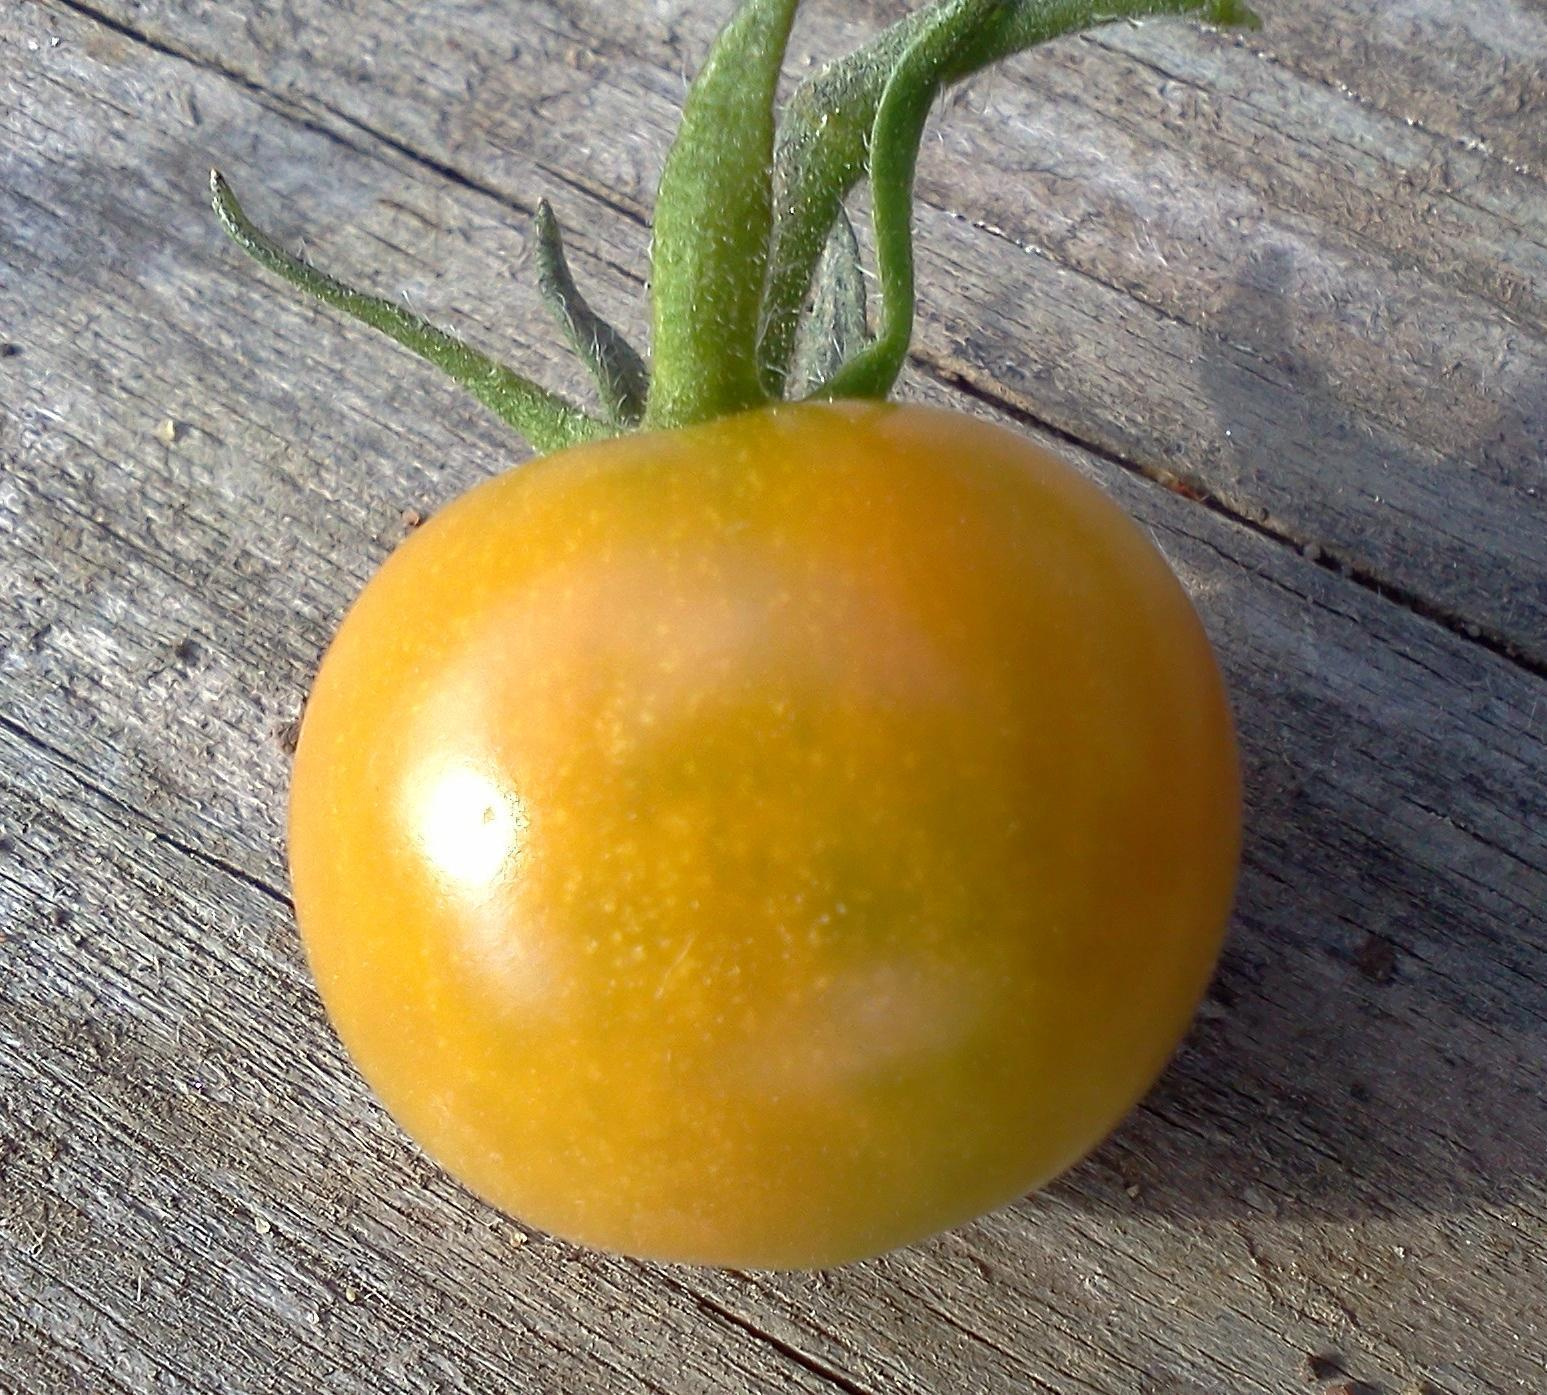healthy-tomato: (156, 26, 1241, 1263)
